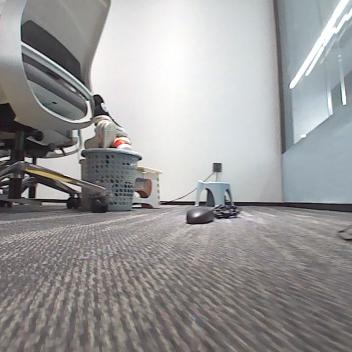blanket: (0, 196, 351, 350)
mouse: (184, 204, 211, 225)
plastic_stool: (131, 164, 165, 210)
toilet: (76, 146, 144, 213)
wire: (211, 200, 242, 220)
